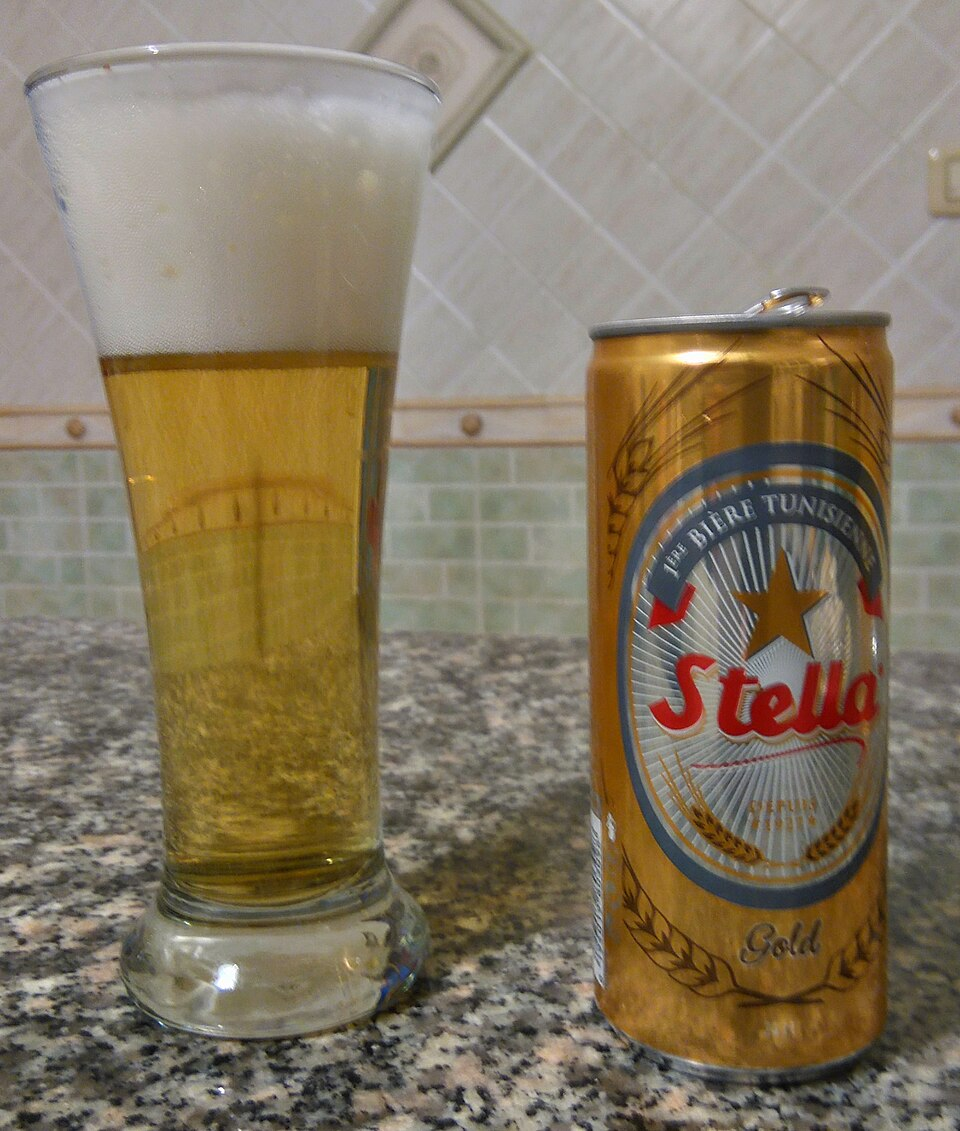beer-can: (585, 295, 906, 1099)
